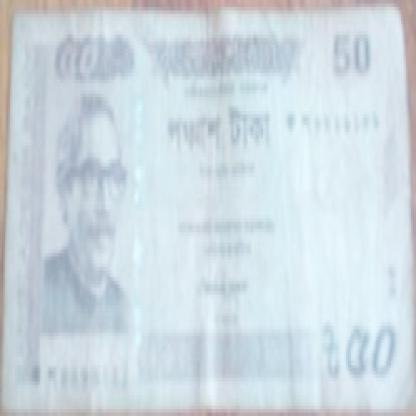Fifty taka: (331, 315, 406, 392), (58, 21, 122, 94)
